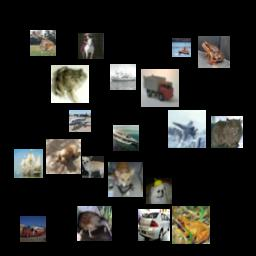airplane: (168, 110, 206, 148), (69, 110, 91, 132)
automobile: (138, 209, 170, 241)
bird: (77, 206, 112, 241)
cat: (211, 116, 243, 148)
deer: (30, 30, 56, 56)
dog: (46, 139, 81, 174), (108, 162, 143, 197), (146, 178, 172, 204), (82, 156, 104, 178)
frog: (172, 206, 210, 244), (51, 65, 89, 103), (198, 36, 230, 68)
ship: (14, 149, 43, 178), (110, 64, 136, 90), (113, 125, 139, 151), (172, 38, 191, 57)
truck: (141, 69, 179, 107), (20, 216, 46, 242)
